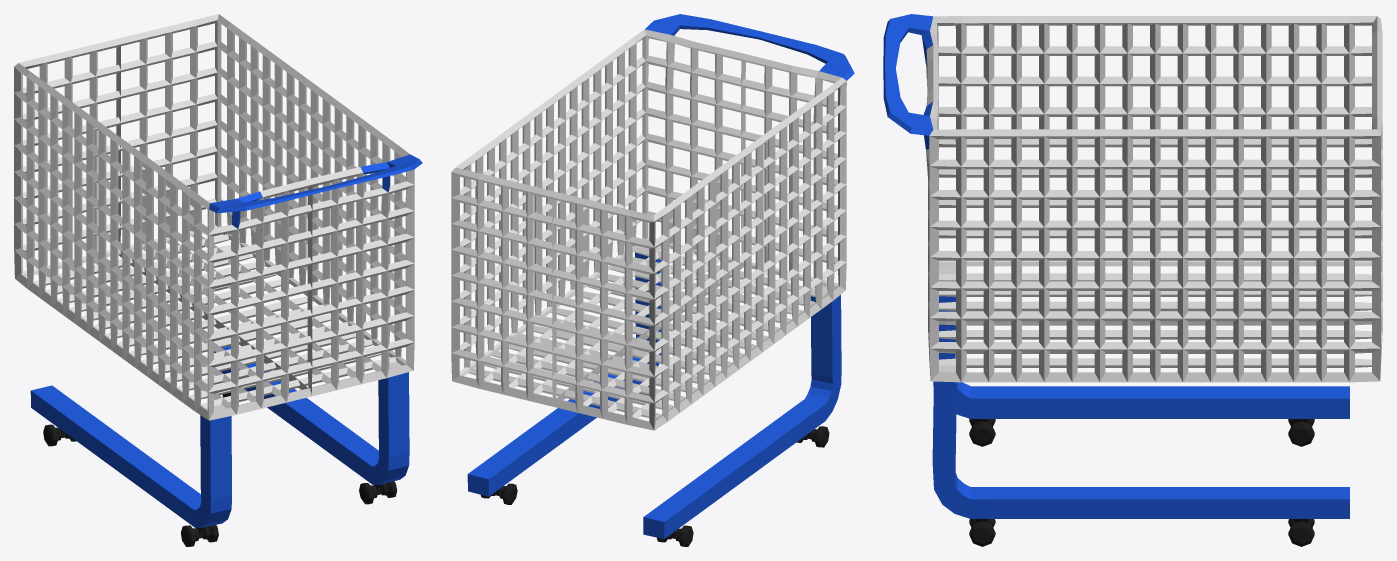
File: mod_koszyk2.fbx
3 renders of one model, left to right at view 1: azimuth 30°, elevation 25°; view 2: azimuth 150°, elevation 25°; view 3: azimuth 270°, elevation 25°, orthographic. The views are drawn at different scales.
Parts seen in each view (by area): view 1: koszyk_mod; view 2: koszyk_mod; view 3: koszyk_mod.
Part boxes in pixels (x1=…): koszyk_mod: x1=14, y1=14, x2=422, y2=546; koszyk_mod: x1=451, y1=14, x2=854, y2=546; koszyk_mod: x1=883, y1=14, x2=1382, y2=546.
Size of the model in its own units: 1.56 by 2.62 by 2.79.
